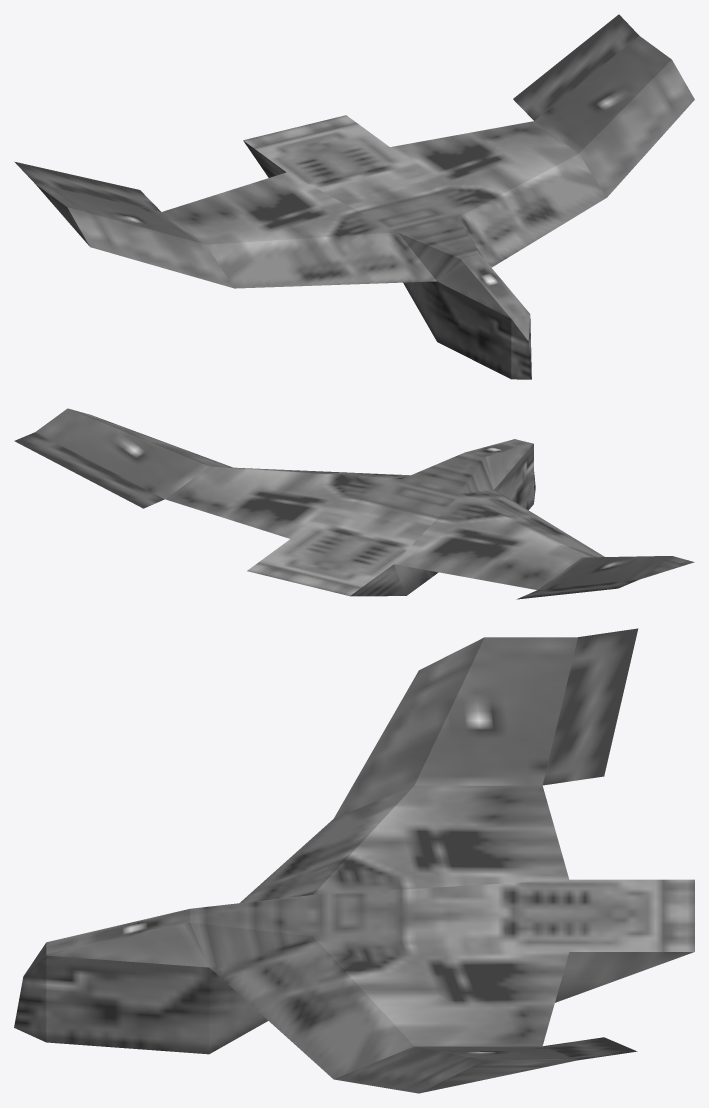
File: fortress.glb
The picture shows the model from 3 angles, top to bottom: view 1: azimuth 30°, elevation 25°; view 2: azimuth 150°, elevation 25°; view 3: azimuth 270°, elevation 25°; orthographic projection. The views are drawn at different scales.
Visible parts, largest first — view 1: root; view 2: root; view 3: root.
Part boxes in pixels (box(x1,y1,x2,y2)): root: box(14, 14, 694, 379); root: box(14, 408, 694, 599); root: box(14, 628, 694, 1093).
Bounding box in the file's own units: 3.15 × 0.6836 × 2.14.
Materials: 1 (1 with a texture image).
